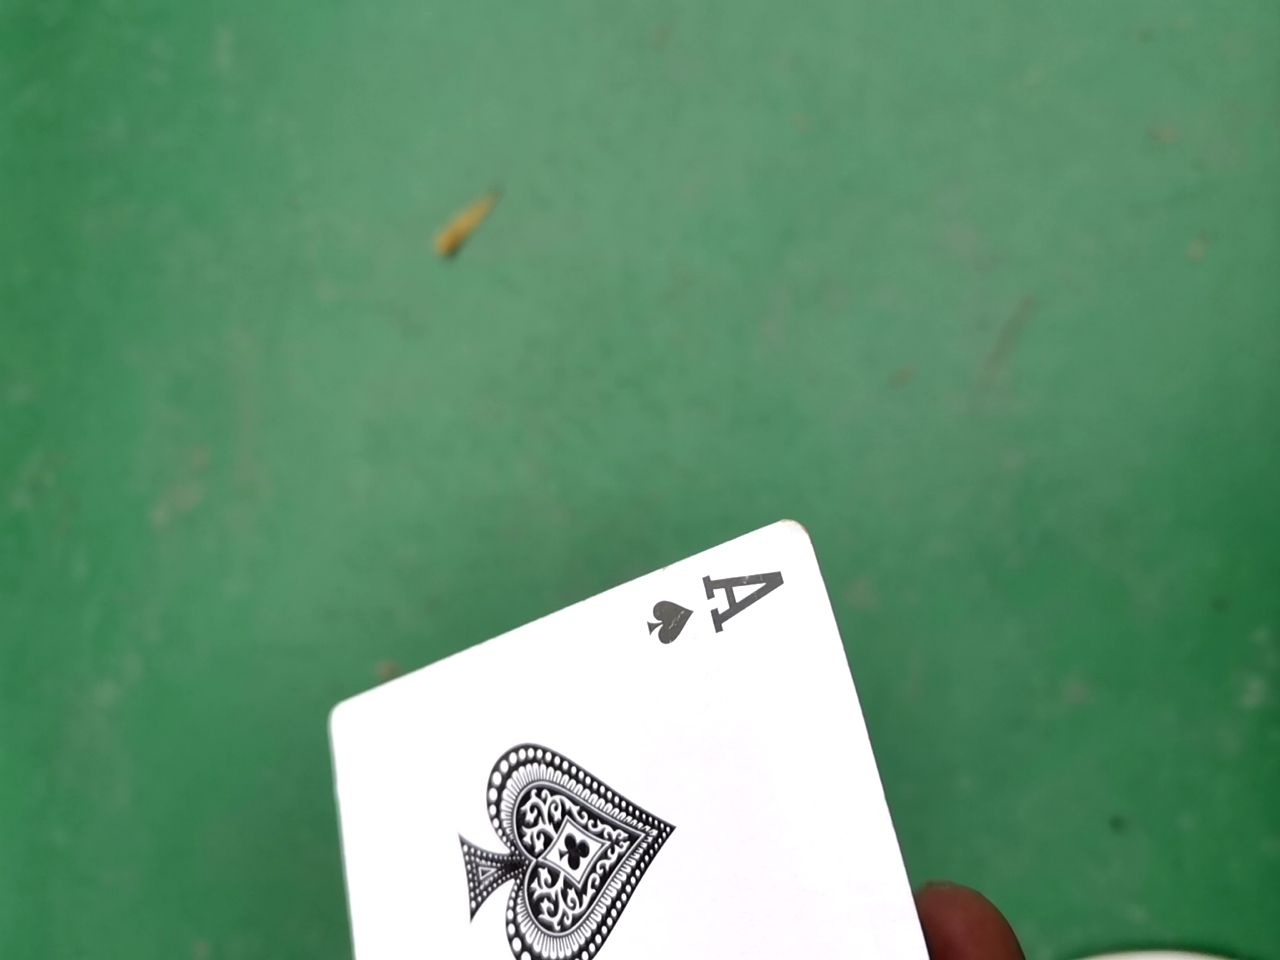ht a: (340, 491, 995, 960)
